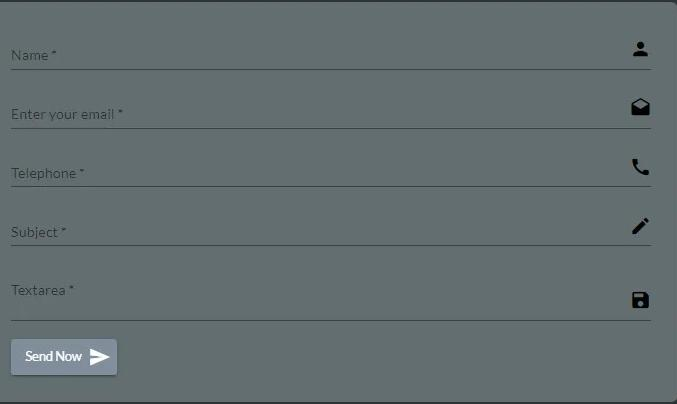button: (8, 336, 119, 378)
field_line: (9, 280, 658, 324), (10, 156, 658, 191), (8, 41, 657, 73), (8, 218, 655, 250), (6, 101, 660, 132)
